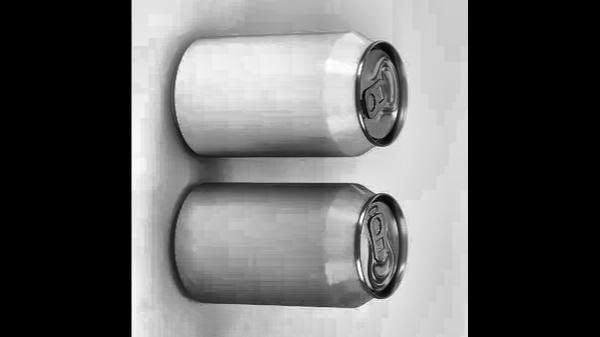can: (166, 19, 424, 170), (163, 179, 422, 310)
